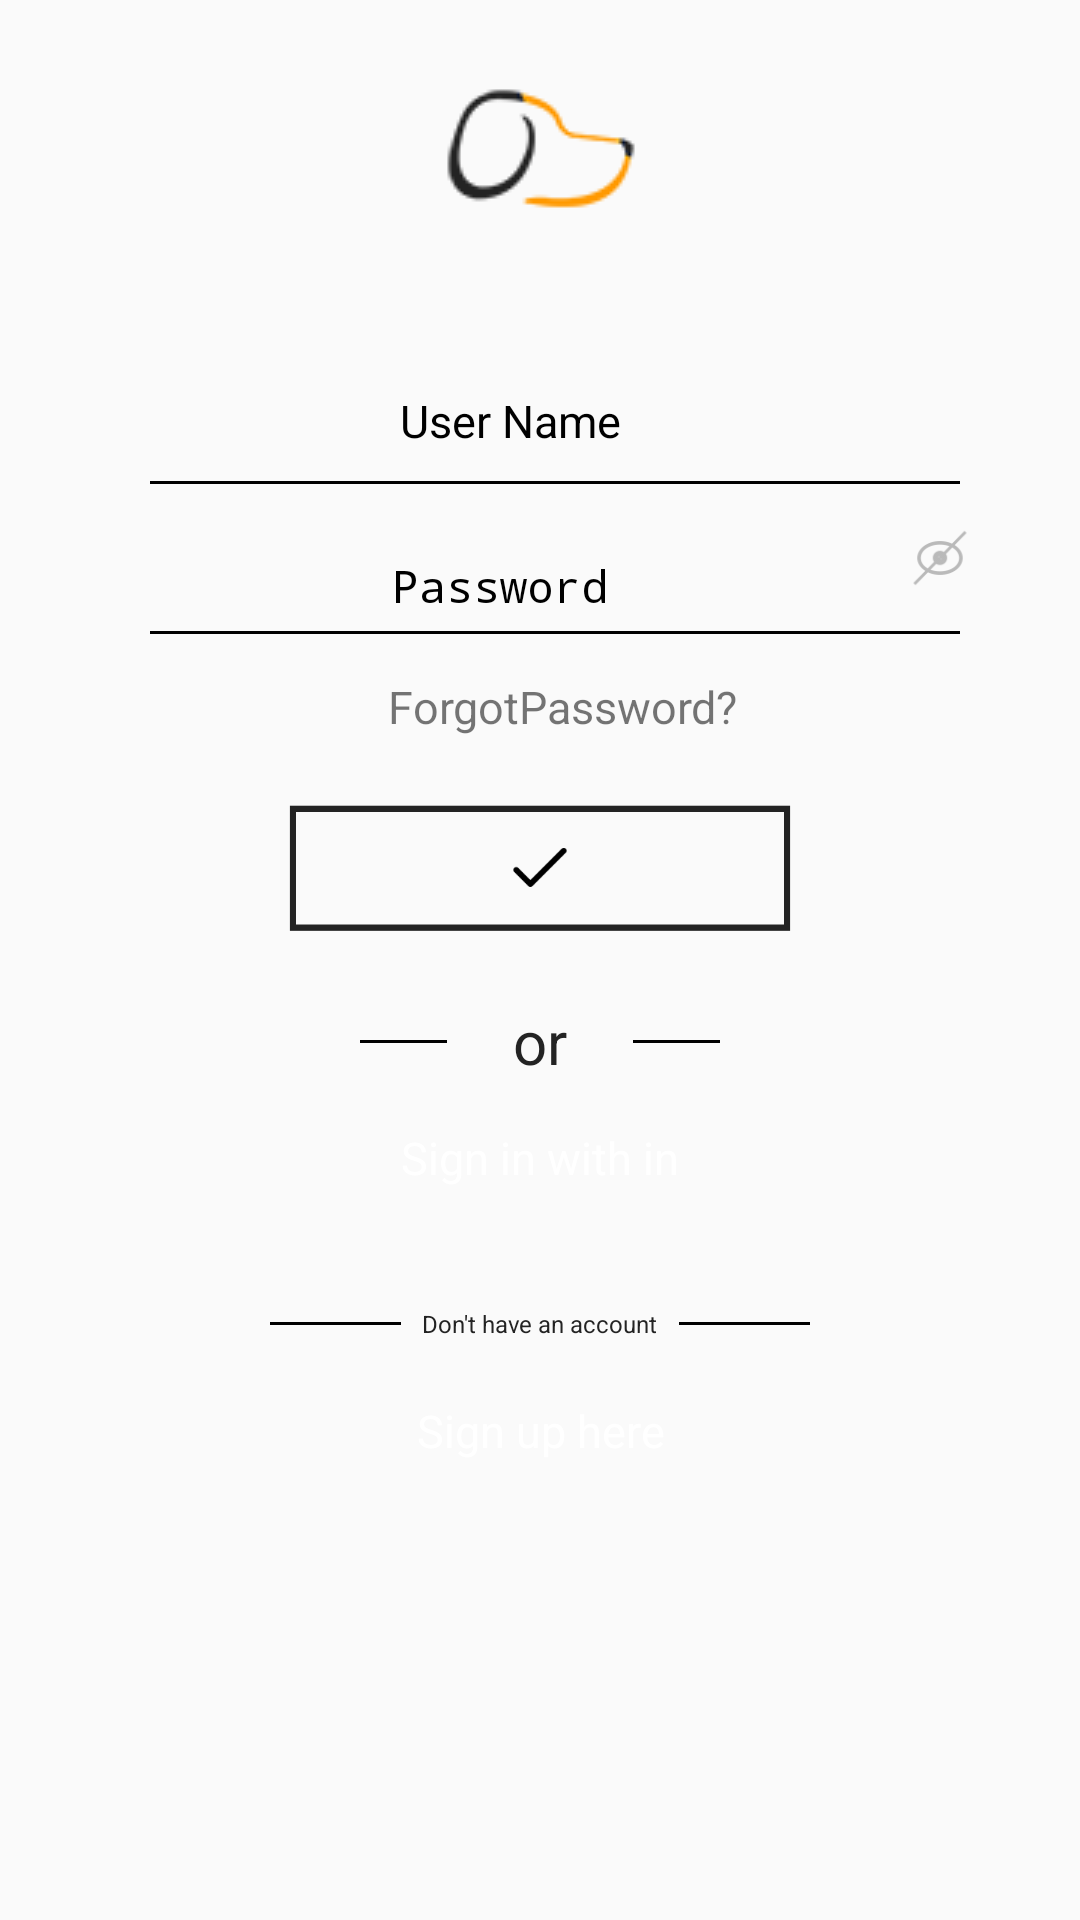

Icons on this 1080px×1920px Android screen, each with its box as box=[x1, y1, x2, y2]:
dogsmall: box=[447, 89, 635, 208]
pas: box=[914, 531, 966, 585]
